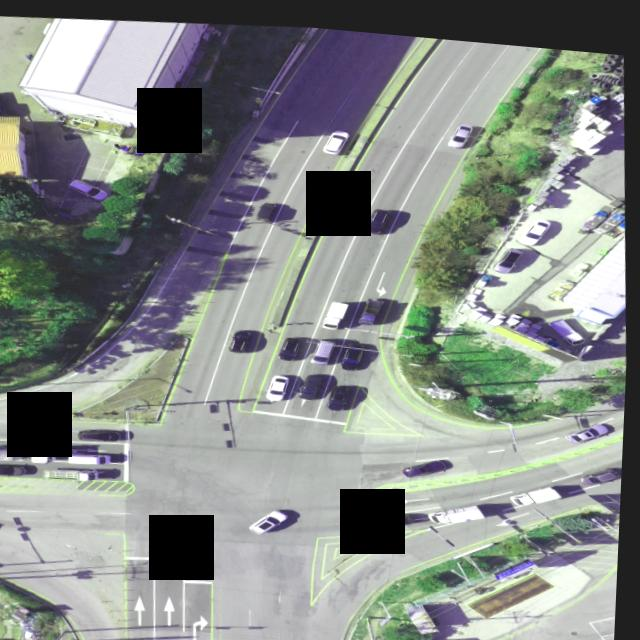car: (517, 204, 555, 238), (67, 175, 112, 202), (405, 448, 455, 472), (568, 410, 614, 434), (253, 504, 293, 531), (374, 505, 422, 525), (362, 203, 392, 232), (584, 457, 624, 478), (311, 330, 339, 359), (342, 338, 368, 369), (79, 425, 126, 442), (323, 123, 352, 150), (304, 367, 331, 396), (495, 238, 524, 265), (71, 449, 117, 466), (329, 378, 355, 406), (268, 369, 293, 397), (446, 117, 474, 142), (278, 331, 303, 358), (231, 323, 256, 350), (257, 196, 278, 219), (0, 464, 33, 478), (0, 637, 14, 640)
medium_truck: (0, 444, 56, 466)
small_truck: (432, 493, 493, 522), (514, 472, 569, 499), (549, 306, 591, 335), (46, 467, 100, 485), (325, 294, 355, 325), (360, 291, 388, 320), (0, 89, 2, 115)
